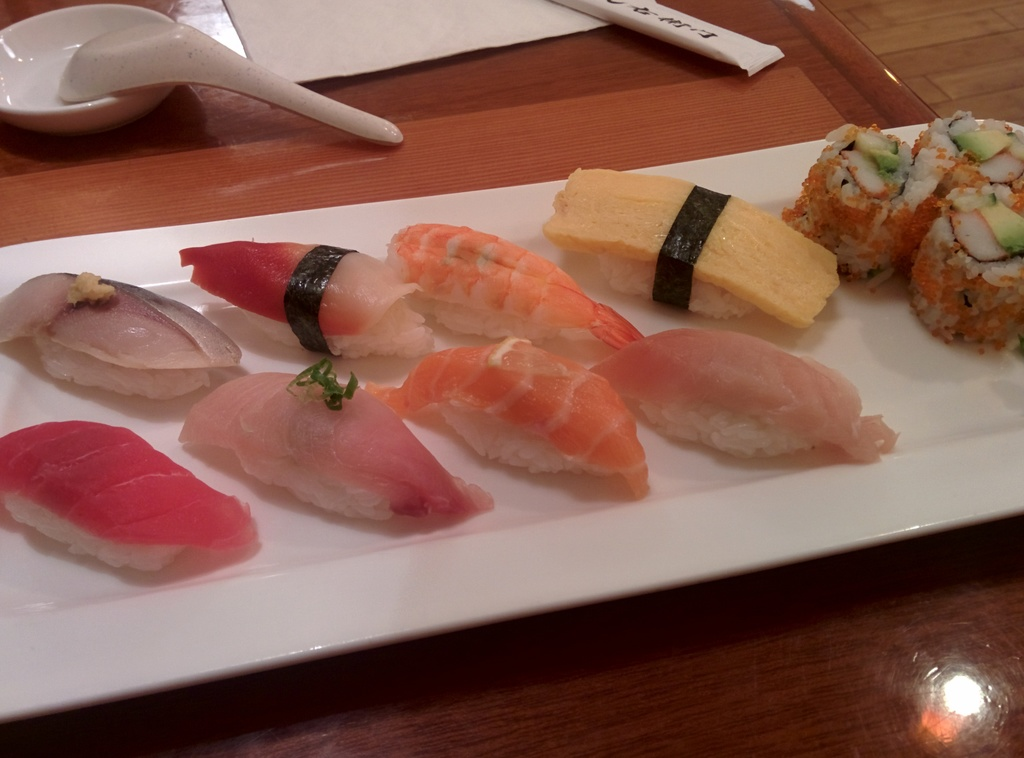sushi: (544, 166, 840, 333), (179, 371, 498, 515), (368, 340, 648, 497), (583, 327, 871, 465), (0, 423, 250, 570), (383, 223, 646, 341), (1, 270, 238, 399), (183, 241, 429, 354), (779, 124, 948, 282), (905, 182, 1023, 349), (918, 113, 1023, 195)
